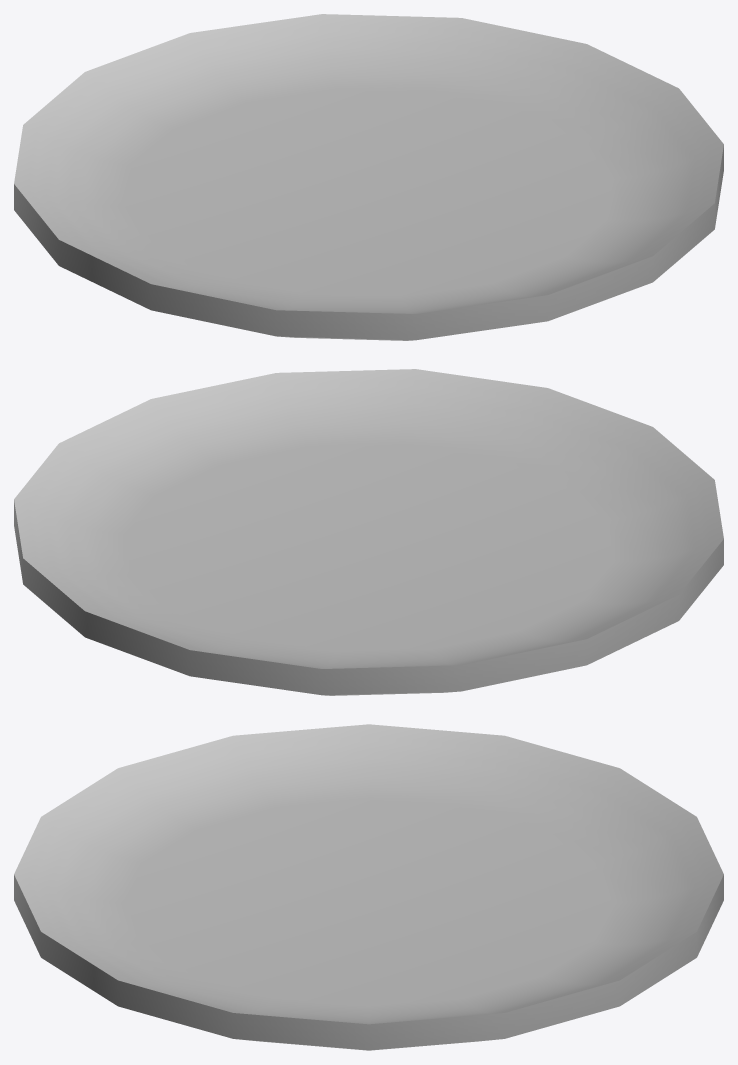
File: Plate_01.glb
3 renders of one model, top to bottom at view 1: azimuth 30°, elevation 25°; view 2: azimuth 150°, elevation 25°; view 3: azimuth 270°, elevation 25°, orthographic.
Parts seen in each view (by area): view 1: Plate_01_LOD0; view 2: Plate_01_LOD0; view 3: Plate_01_LOD0.
Boxes of the visible parts, x1,y1,x2,y2 form: Plate_01_LOD0: (14,14,723,340); Plate_01_LOD0: (14,369,723,695); Plate_01_LOD0: (14,724,723,1050).
Size of what is drawn, in the model's own units: 0.2748 by 0.0234 by 0.2748.
1 material, 1 textured.
